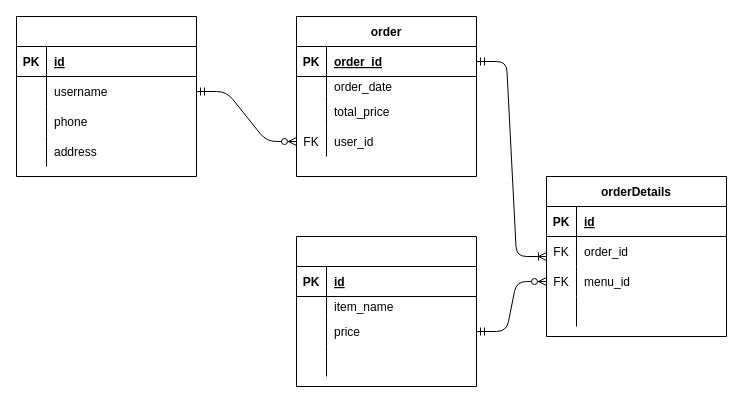
Image size: 743x403. Some labels were removed from this diagram. The box of each missing label's shape, as (x1, y1, x2, y2) in pixels:
menu: (296, 236, 476, 386)
users: (16, 16, 196, 176)
